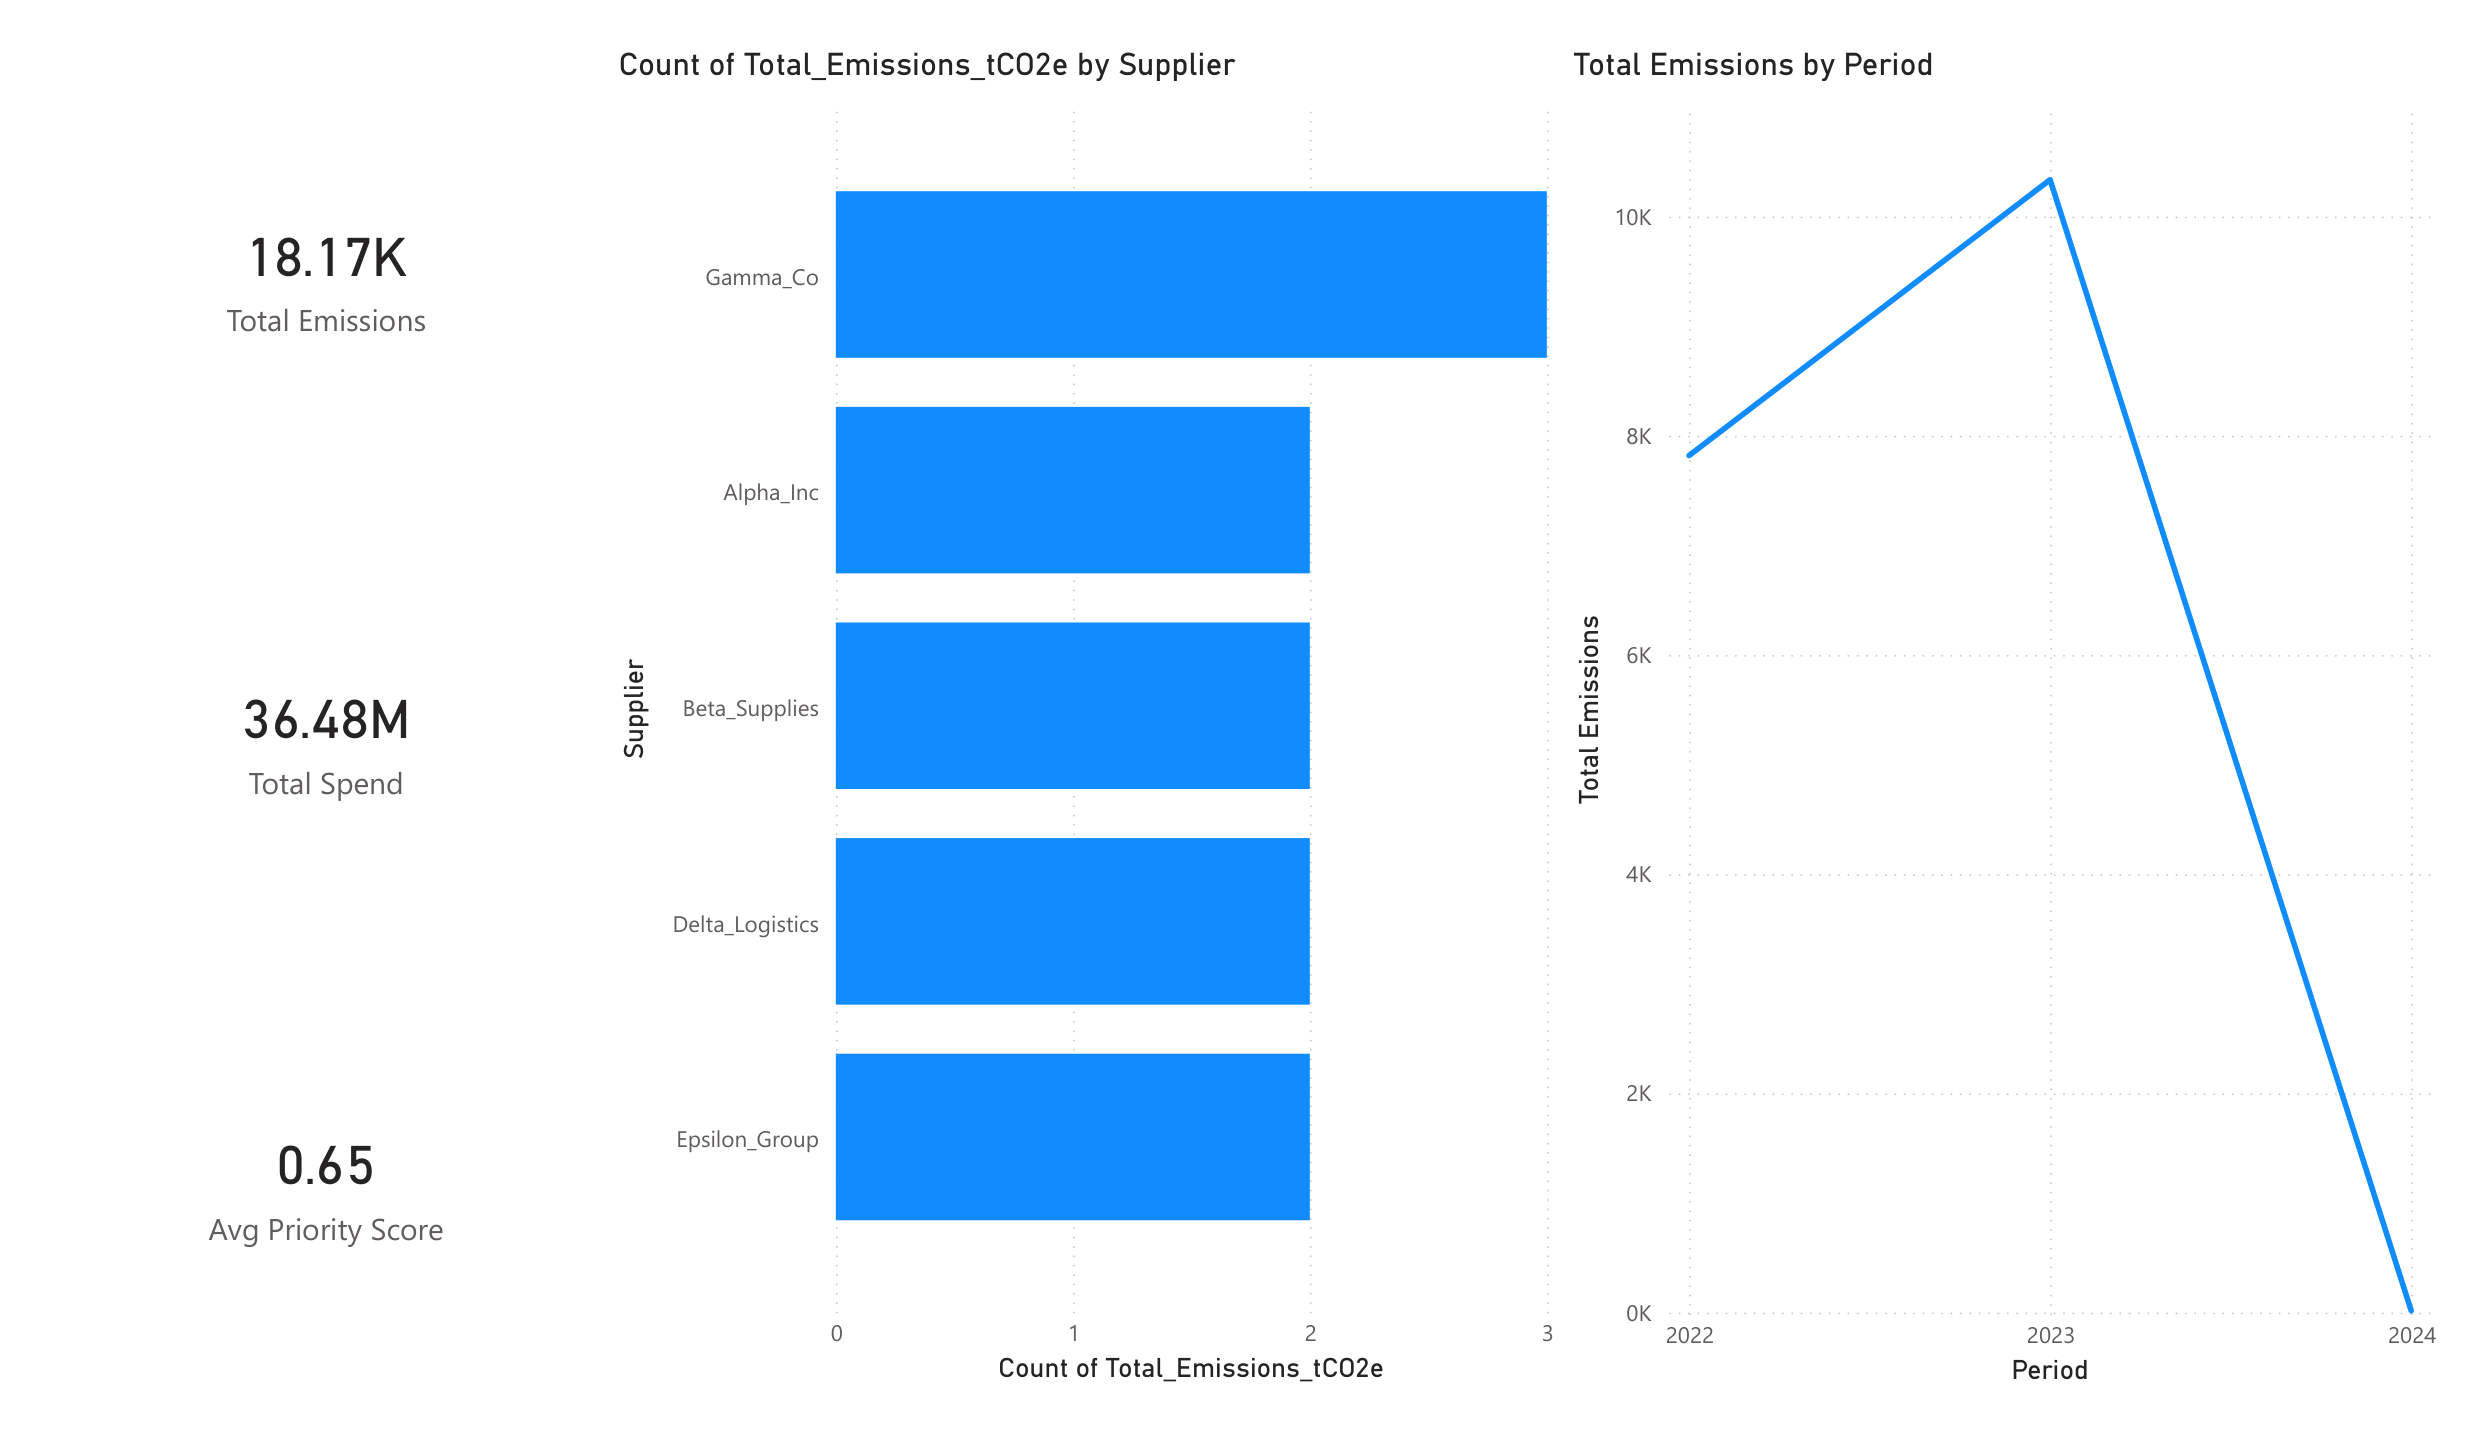

This screenshot's page, from the dashboard's own definition file:
{"tool":"powerbi","page":{"name":"Page 1","canvas":[1280,720],"ordinal":0},"visuals":[{"type":"card","fields":{"Values":["supplier_summary_with_priority.Total Emissions"]},"box":[9.6,0,279.9,244.3],"z":0},{"type":"card","fields":{"Values":["supplier_summary_with_priority.Total Spend"]},"box":[9.6,244.3,279.9,248.4],"z":1000},{"type":"card","fields":{"Values":["supplier_summary_with_priority.Avg Priority Score"]},"box":[9.6,492.6,279.9,227.8],"z":2000},{"type":"lineChart","fields":{"Category":["supplier_summary_with_priority.Period"],"Y":["supplier_summary_with_priority.Total Emissions"]},"box":[810,0,470,720],"z":3000},{"type":"clusteredBarChart","fields":{"Category":["supplier_summary_with_priority.Supplier"],"Y":["CountNonNull(supplier_summary_with_priority.Total_Emissions_tCO2e)"]},"box":[300.5,0,509.1,719],"z":4000}]}

Visuals, with their boxes in screenshot pixels (x1, y1, x2, y2), scaled from the page's 1280x720 canvas onto the 2490x1440 screenshot:
card - supplier_summary_with_priority.Total Emissions: 19/0/563/489
card - supplier_summary_with_priority.Total Spend: 19/489/563/985
card - supplier_summary_with_priority.Avg Priority Score: 19/985/563/1439
lineChart - supplier_summary_with_priority.Period x supplier_summary_with_priority.Total Emissions: 1576/0/2489/1439
clusteredBarChart - supplier_summary_with_priority.Supplier x CountNonNull(supplier_summary_with_priority.Total_Emissions_tCO2e): 585/0/1575/1438
